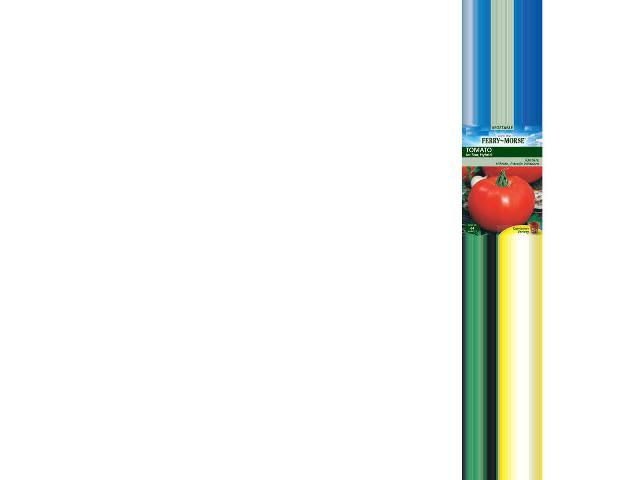tomato: (468, 176, 534, 232)
